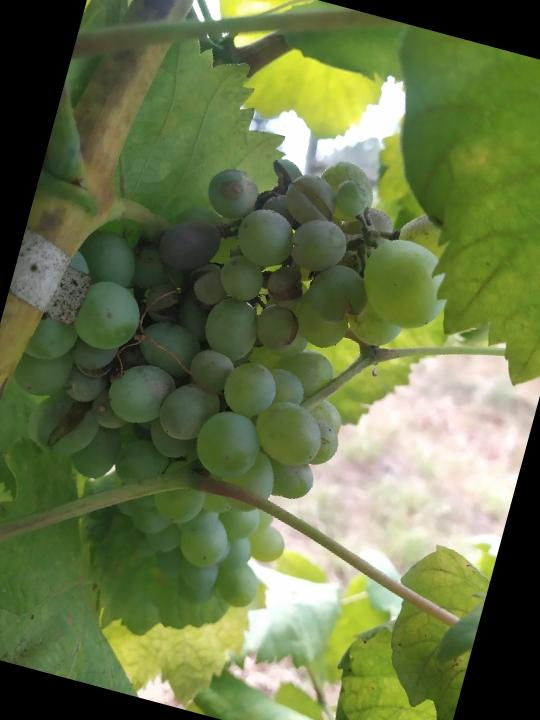grape: (5, 90, 479, 527)
